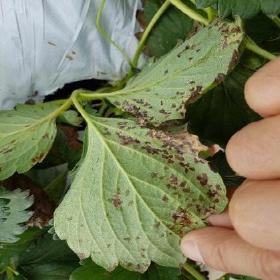Angular Leafspot: (53, 115, 230, 274), (103, 15, 249, 127), (0, 100, 67, 180)
